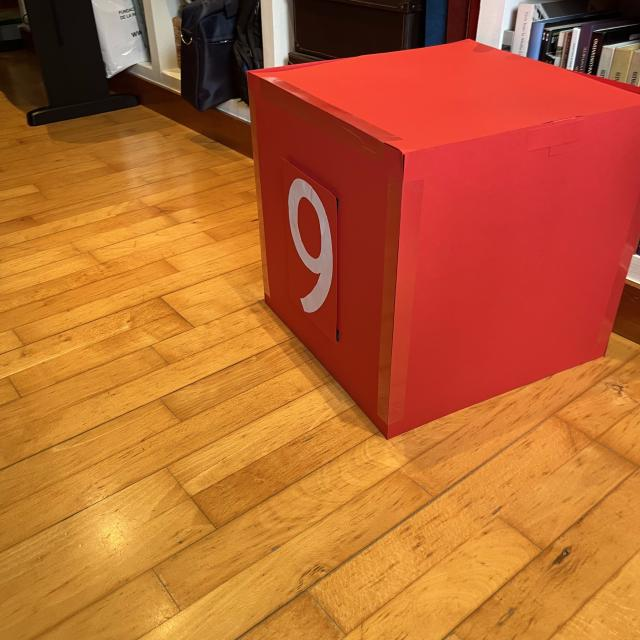box: (244, 36, 637, 440)
